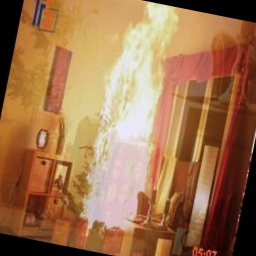fire: (63, 0, 190, 233)
